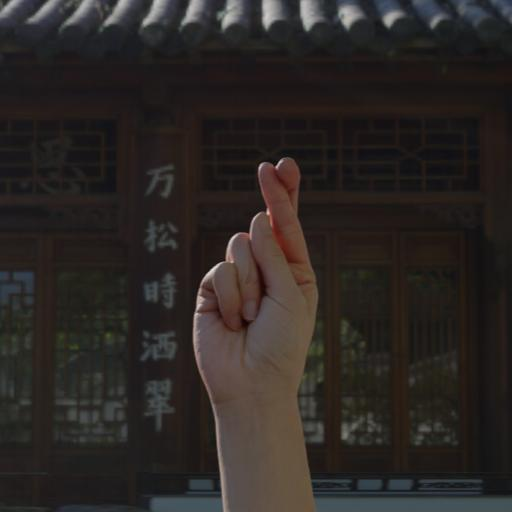R: (156, 121, 415, 512)
